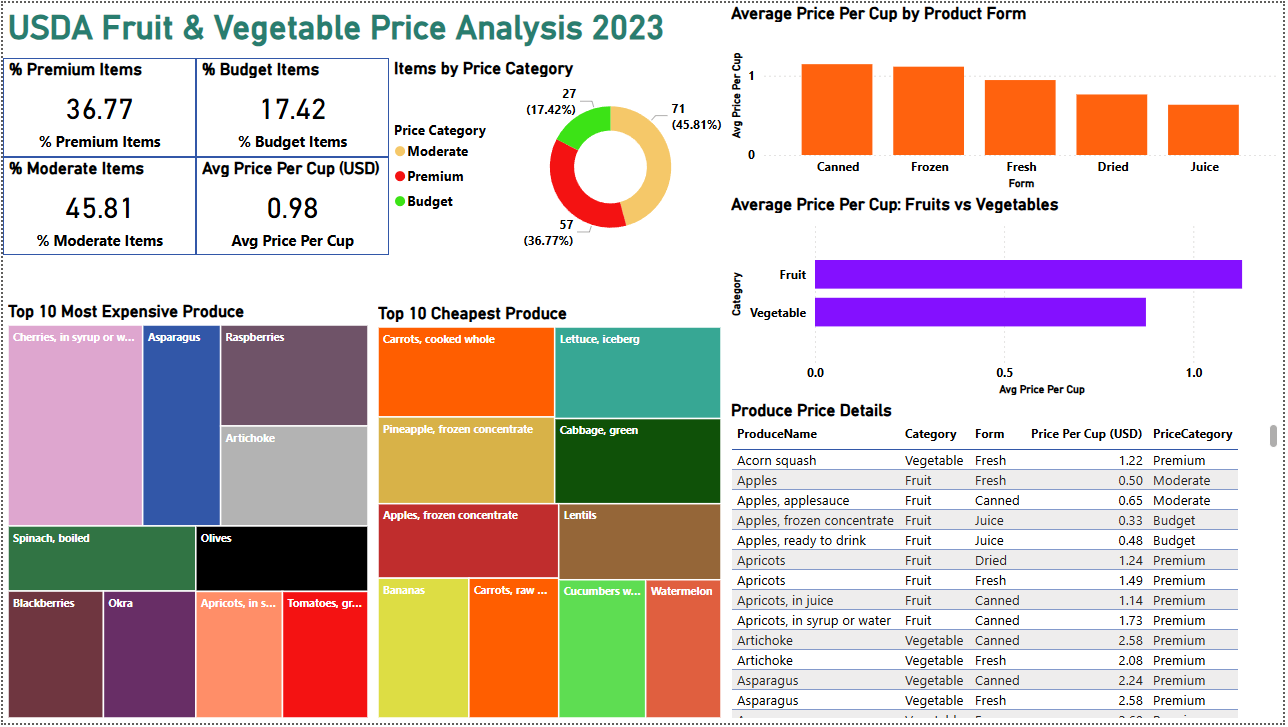

The dashboard page shown, as its layout file describes it:
{"tool":"powerbi","page":{"name":"Page 1","canvas":[1280,720],"ordinal":0},"visuals":[{"type":"card","title":"Avg Price Per Cup (USD)","fields":{"Values":["ProducePrices.Avg Price Per Cup"]},"box":[193,153.5,193,98],"z":0},{"type":"card","title":"% Premium Items","fields":{"Values":["ProducePrices.% Premium Items"]},"box":[0,54.8,193,98.8],"z":1000},{"type":"clusteredBarChart","title":"Average Price Per Cup: Fruits vs Vegetables","fields":{"Category":["ProducePrices.Category"],"Y":["ProducePrices.Avg Price Per Cup"]},"box":[722.7,191.2,557.5,205.6],"z":2000},{"type":"card","title":"% Moderate Items","fields":{"Values":["ProducePrices.% Moderate Items"]},"box":[0,153.5,193,98.8],"z":3000},{"type":"card","title":"% Budget Items","fields":{"Values":["ProducePrices.% Budeget Items"]},"box":[193,54.8,193,98.8],"z":4000},{"type":"donutChart","title":"Items by Price Category","fields":{"Category":["ProducePrices.PriceCategory"],"Y":["CountNonNull(ProducePrices.ProduceName)"]},"box":[386,54.8,336.7,199.3],"z":5000},{"type":"clusteredColumnChart","title":"Average Price Per Cup by Product Form","fields":{"Category":["ProducePrices.Form"],"Y":["ProducePrices.Avg Price Per Cup"]},"box":[722.7,0,557.5,191.2],"z":6000},{"type":"treemap","title":"Top 10 Most Expensive Produce","fields":{"Group":["ProducePrices.ProduceName"],"Values":["ProducePrices.Avg Price Per Cup"]},"box":[0,298.1,369.9,421.9],"z":7000},{"type":"tableEx","title":"Produce Price Details","fields":{"Values":["ProducePrices.ProduceName","ProducePrices.Category","ProducePrices.Form","Sum(ProducePrices.AvgPricePerCup)","ProducePrices.PriceCategory"]},"box":[722.7,396.8,557.5,323.2],"z":8000},{"type":"treemap","title":"Top 10 Cheapest Produce","fields":{"Group":["ProducePrices.ProduceName"],"Values":["ProducePrices.Avg Price Per Cup"]},"box":[369.9,299.9,352.8,420.1],"z":9000},{"type":"textbox","box":[0,0,667,54.8],"z":10000}]}

Visuals, with their boxes in screenshot pixels (x1, y1, x2, y2), scaled from the page's 1280x720 canvas onto the 1288x727 screenshot:
"Avg Price Per Cup (USD)" card: crop(194, 155, 388, 254)
"% Premium Items" card: crop(0, 55, 194, 155)
"Average Price Per Cup: Fruits vs Vegetables" clusteredBarChart: crop(727, 193, 1287, 401)
"% Moderate Items" card: crop(0, 155, 194, 255)
"% Budget Items" card: crop(194, 55, 388, 155)
"Items by Price Category" donutChart: crop(388, 55, 727, 257)
"Average Price Per Cup by Product Form" clusteredColumnChart: crop(727, 0, 1287, 193)
"Top 10 Most Expensive Produce" treemap: crop(0, 301, 372, 726)
"Produce Price Details" tableEx: crop(727, 401, 1287, 726)
"Top 10 Cheapest Produce" treemap: crop(372, 303, 727, 726)
textbox: crop(0, 0, 671, 55)
